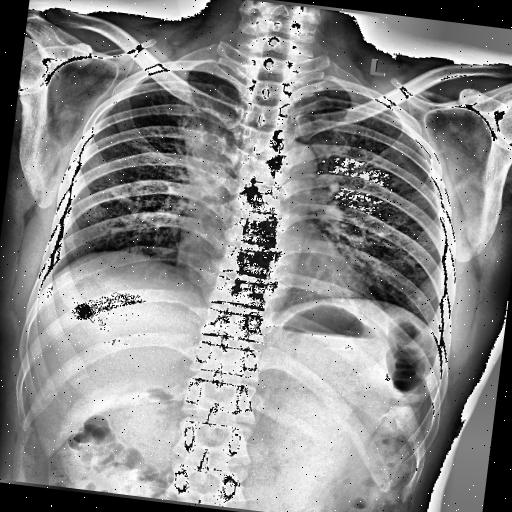6- Infiltration: (180, 120, 234, 202)
7- Lung Opacity: (173, 122, 243, 206)
8- Nodule-Mass: (173, 122, 243, 206)
9- Other lesion: (180, 123, 234, 194)
